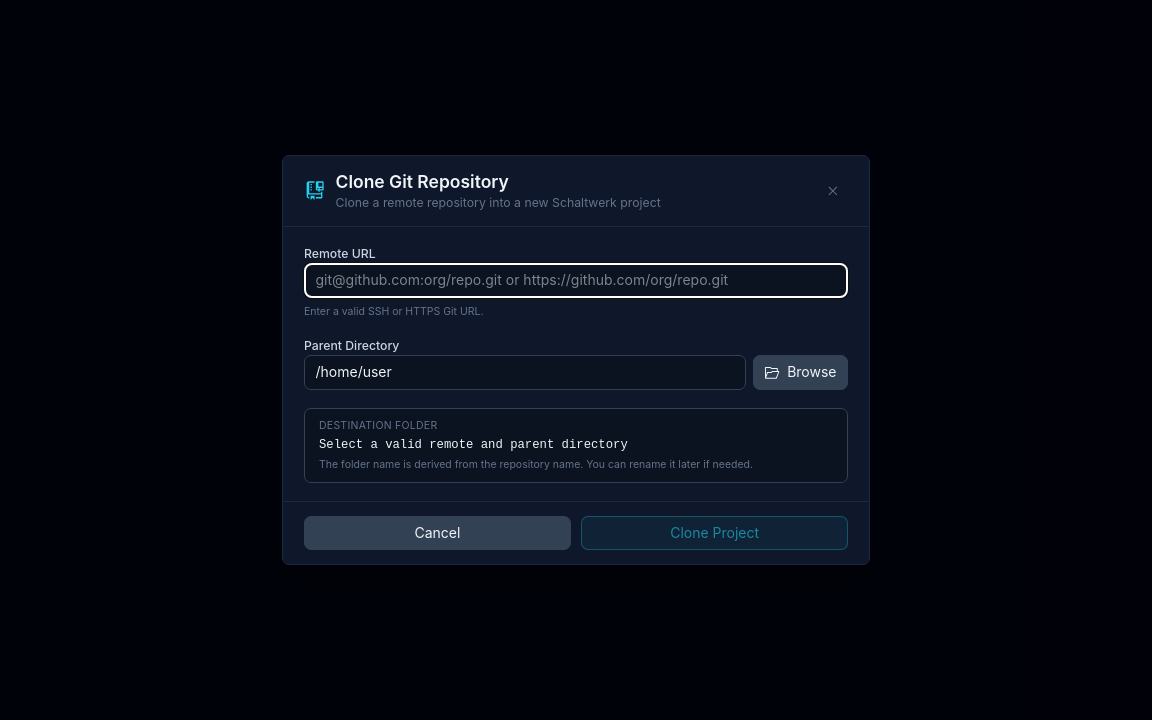
Test: CloneProjectDialog › updates progress message from clone progress events
The width and height of the screenshot is (1152, 720).
Type "https://github.com/example/alpha.git" into the field labelled "Remote URL" at (576, 280), box [304,263,848,298]
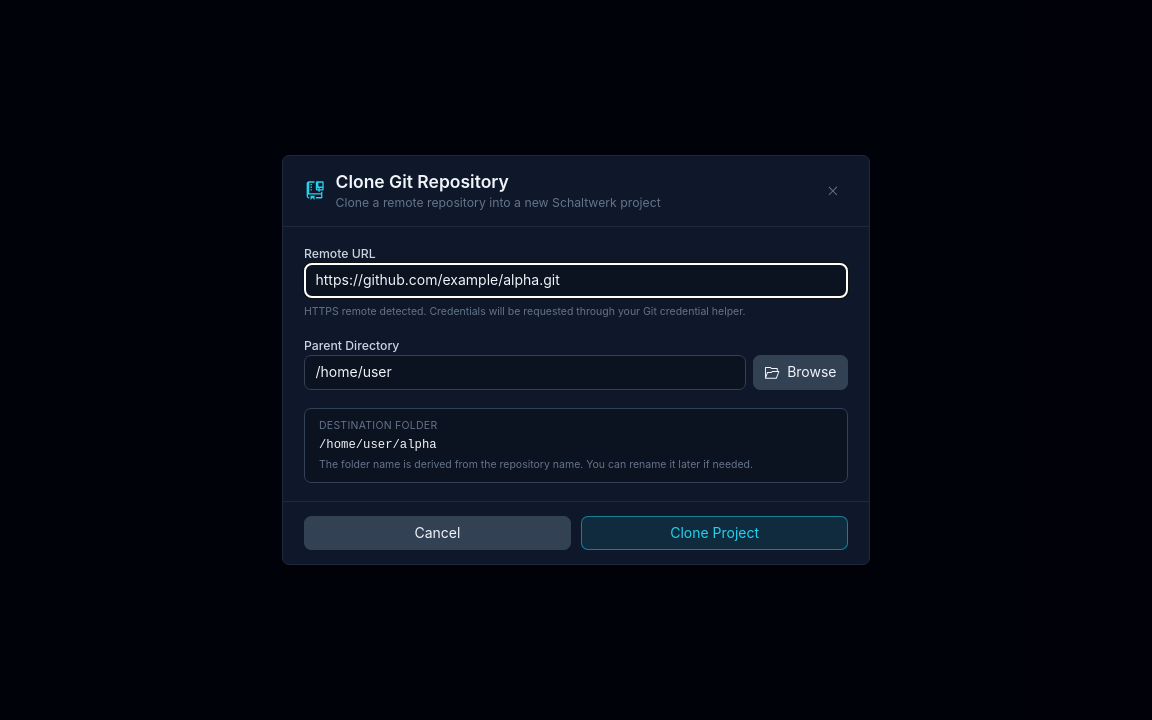
Click the button "Clone Project" at (715, 533), box [581,516,848,550]
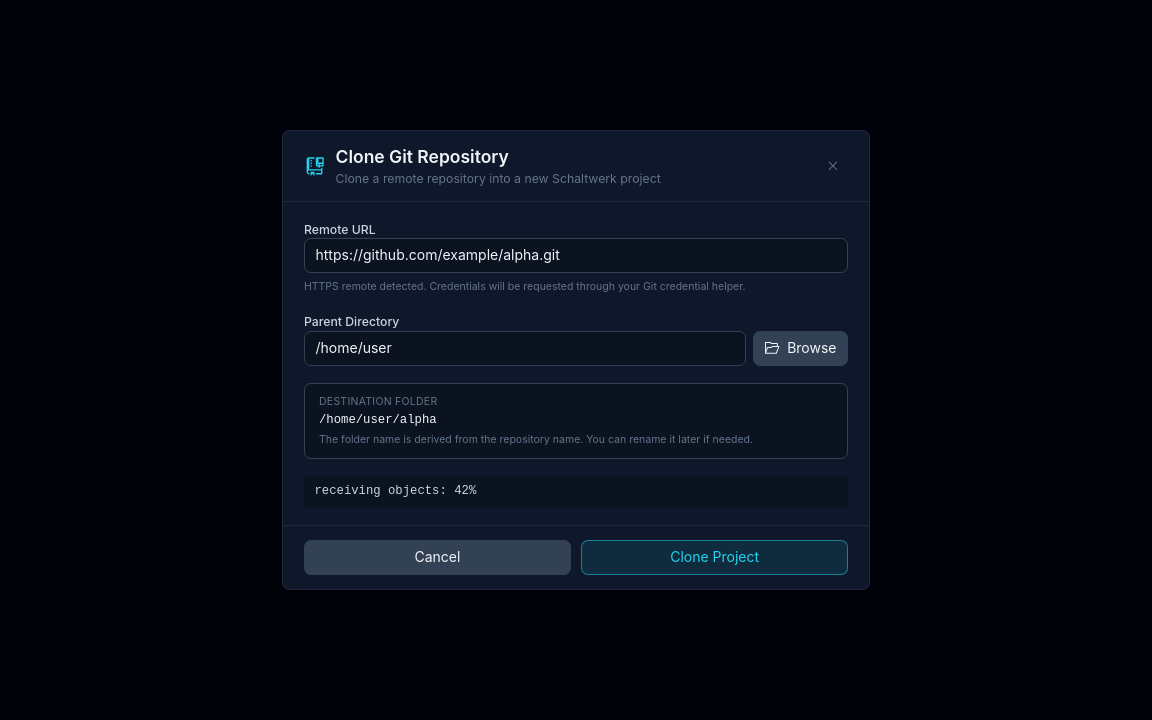
Check: the text "receiving objects: 42%" is shown, box [304,476,848,508]
